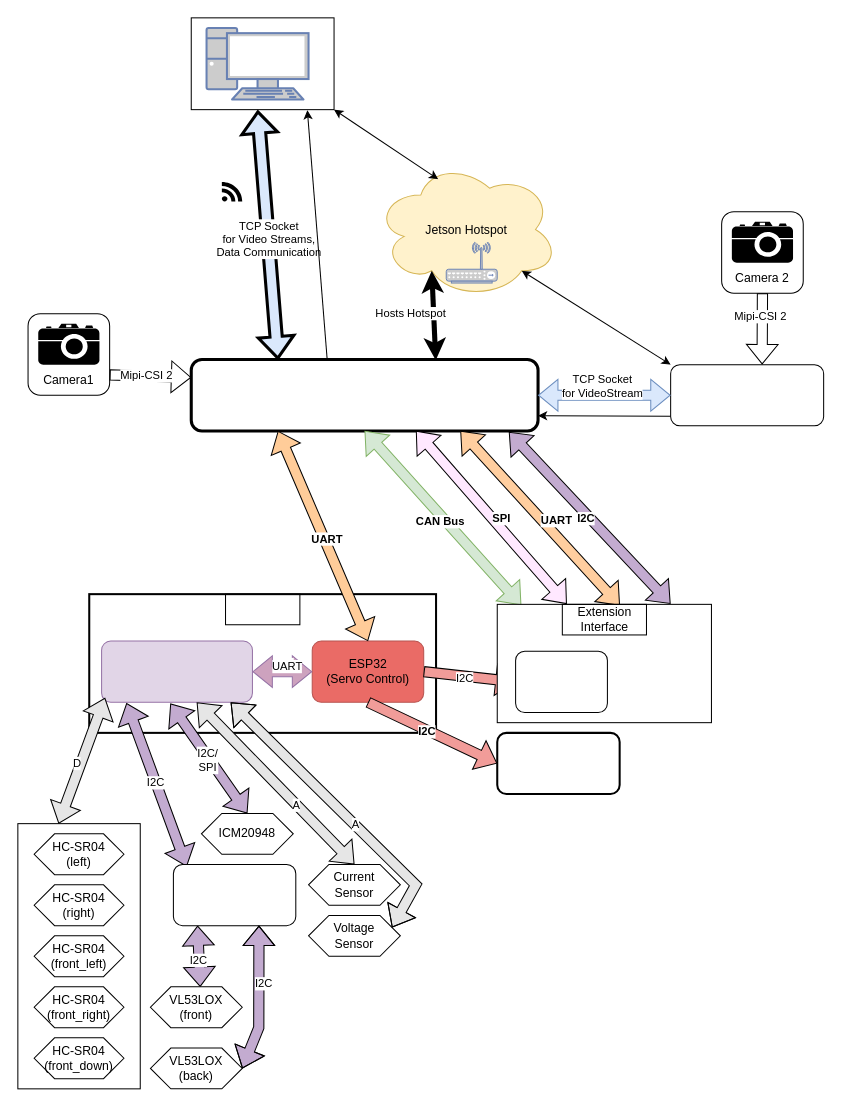
Image size: 842x1107. Some labels were removed from this diagram. The shapes that lost their labels are listed below. From the top down, each one's centre as x and y in pixels, then its label:
the point at 364,395: NVIDIA Jetson Orin Nano
the point at 747,395: Raspberry Pi 4b
the point at 262,609: Main PCB
the point at 176,671: ESP32 (Sensors)
the point at 561,681: PCA9685 (extension)
the point at 558,763: PCA9685 (leg control)
the point at 234,894: PCA9548A
